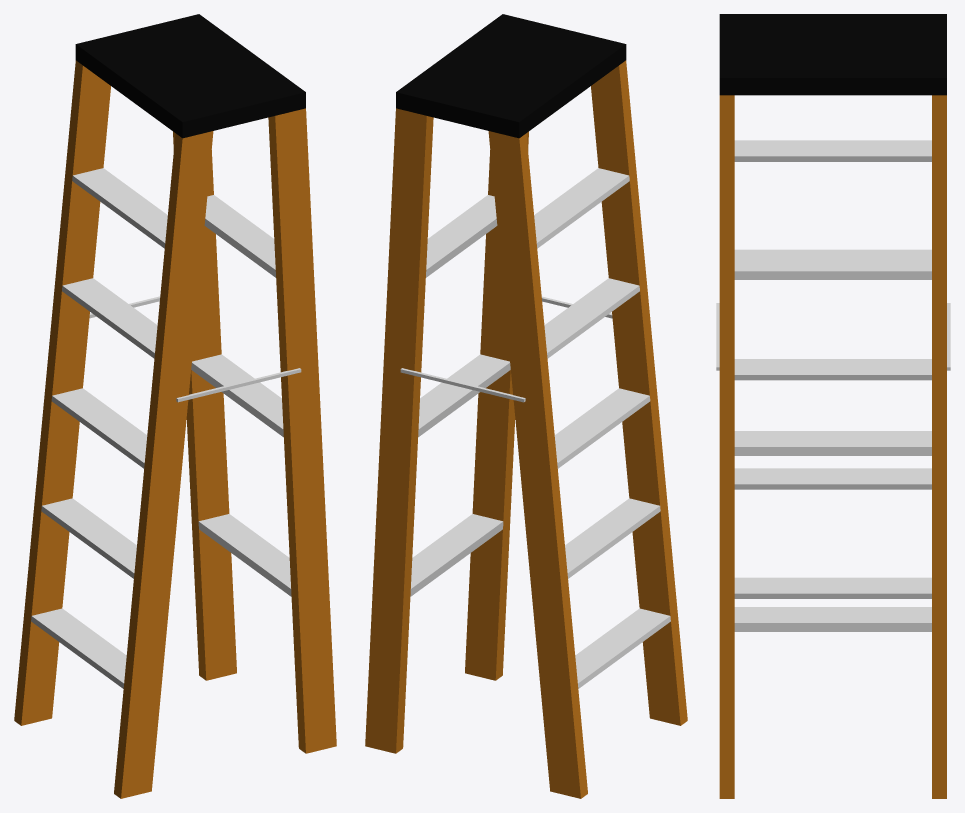
File: ladder.fbx
3 views of the same model, side by side, from view 1: azimuth 30°, elevation 25°; view 2: azimuth 150°, elevation 25°; view 3: azimuth 270°, elevation 25° (orthographic). The views are drawn at different scales.
Parts seen in each view (by area): view 1: ladder; view 2: ladder; view 3: ladder.
Part boxes in pixels (left/top/right/bottom): ladder: left=14, top=14, right=336, bottom=798; ladder: left=365, top=14, right=687, bottom=798; ladder: left=716, top=14, right=950, bottom=798.
Bounding box in the file's own units: 70 × 205 × 61.7.
